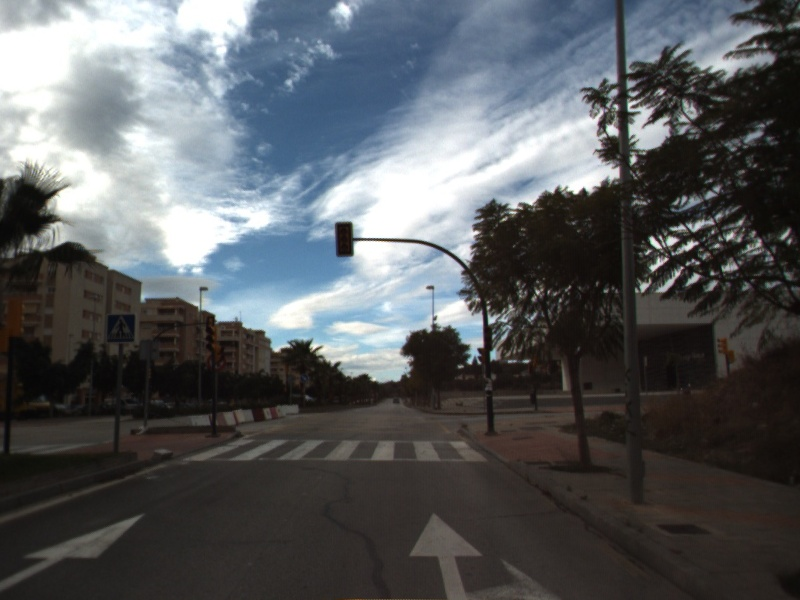STRAIGHT: (1, 511, 148, 593)
STRAIGHT_RIGHT: (407, 510, 565, 600)
